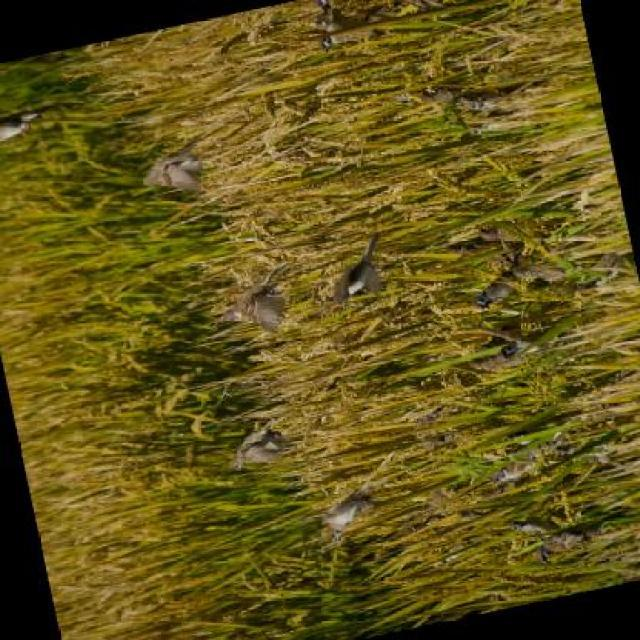Bird: (333, 233, 386, 307), (141, 150, 221, 197), (230, 429, 293, 475), (534, 521, 599, 563), (466, 78, 539, 111), (319, 490, 377, 531), (0, 104, 51, 145), (475, 275, 518, 309), (492, 460, 541, 489), (497, 334, 543, 361), (420, 83, 472, 101), (511, 520, 561, 533)
